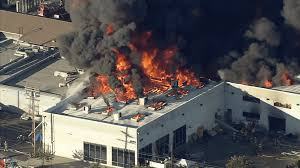smoke: (54, 1, 300, 86)
